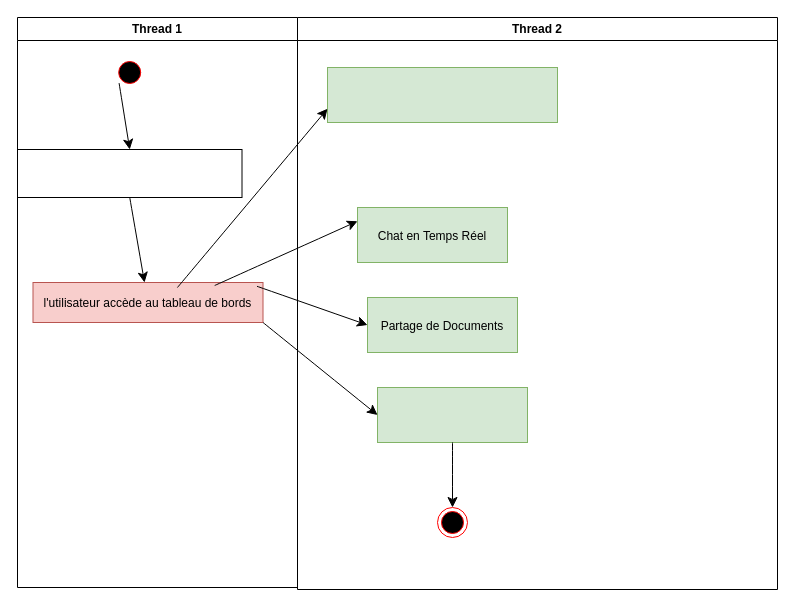
This 795x607 diagram has some shape labels left out. Each missing label, with the box of its shape:
Initiation des actions: (326, 66, 558, 122)
L'utilisateur accède au système: (16, 148, 242, 198)
Planification de Réunion: (376, 386, 528, 442)
